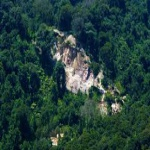Forest: (5, 5, 147, 146)
